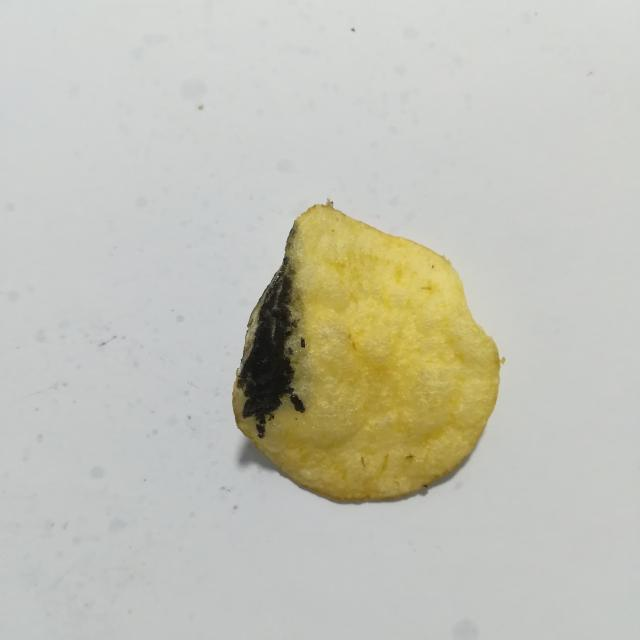chip: (233, 202, 501, 501)
damaged: (238, 256, 305, 438)
semi-damaged: (284, 217, 313, 405)
